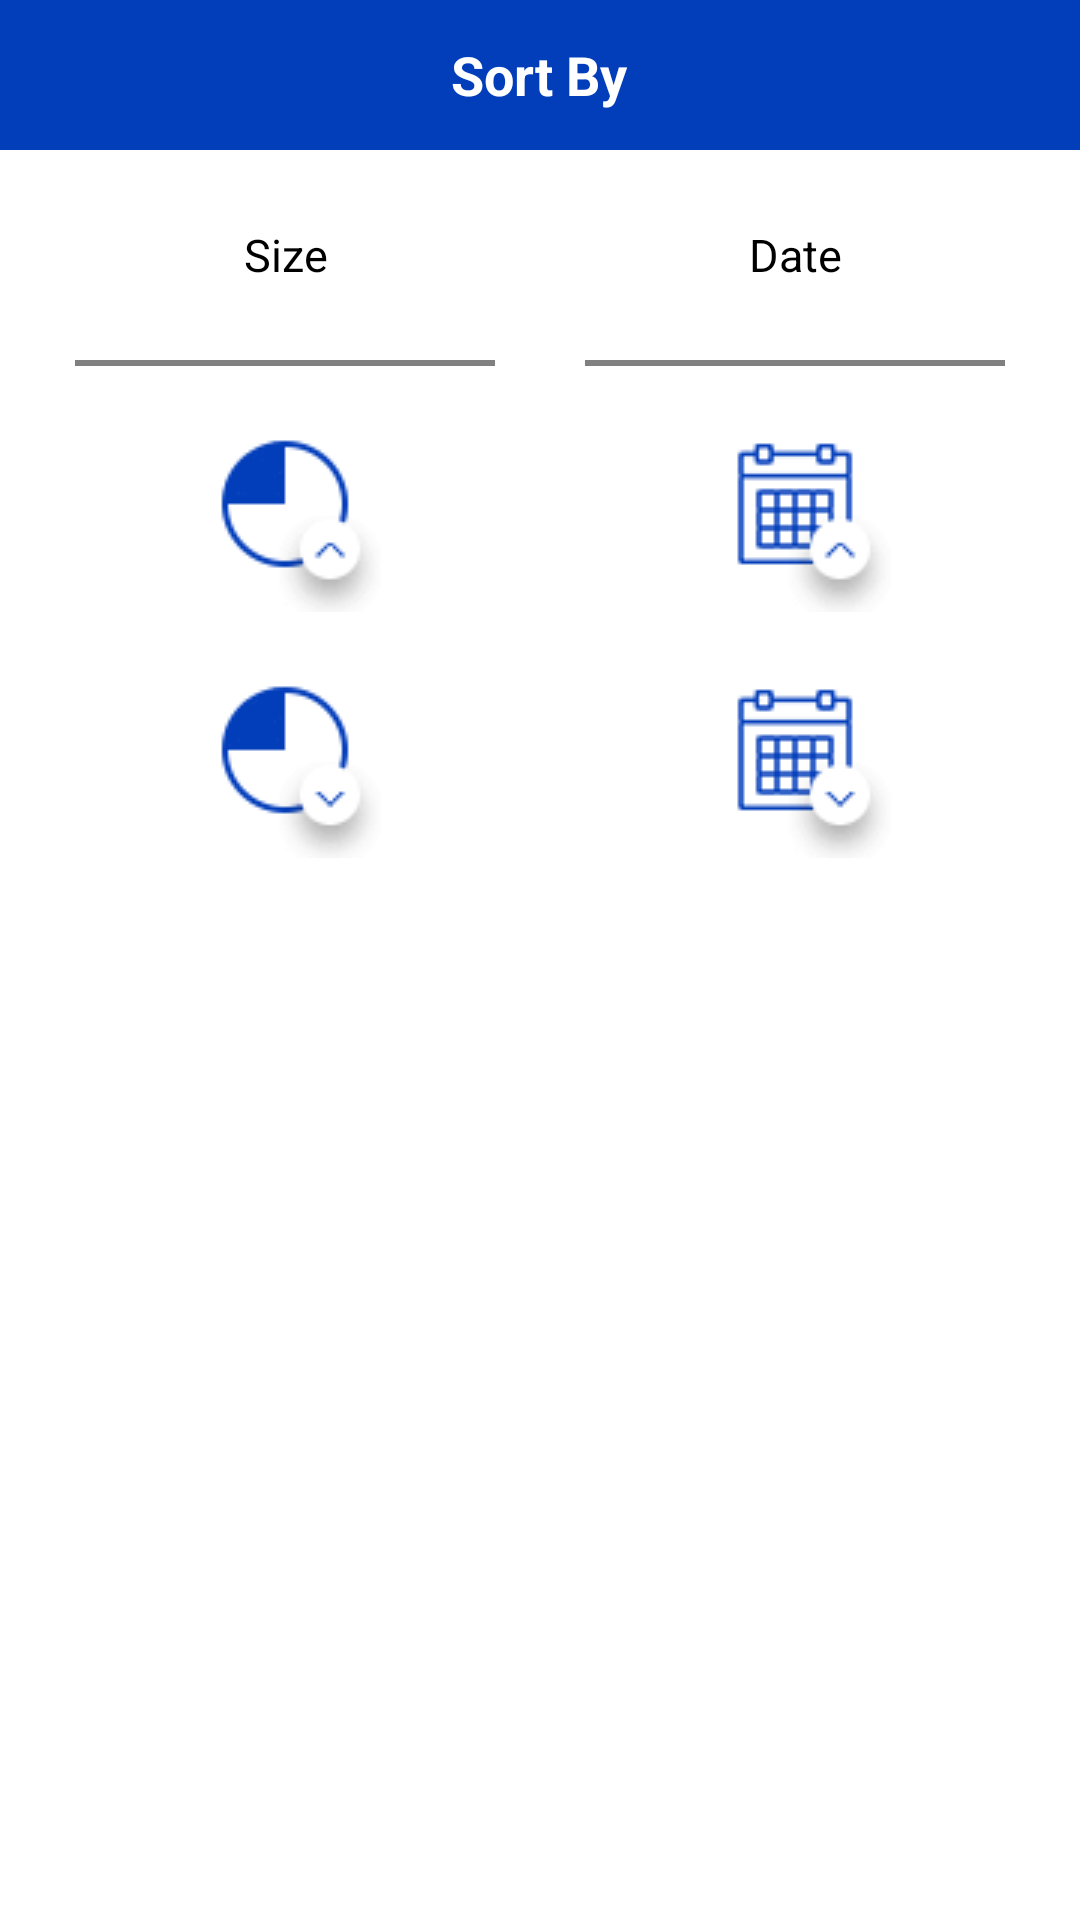

Where to tap for icons on this 1080x1920 app screen, as [x,y]:
date descending: [805,768]
size descending: [293,767]
